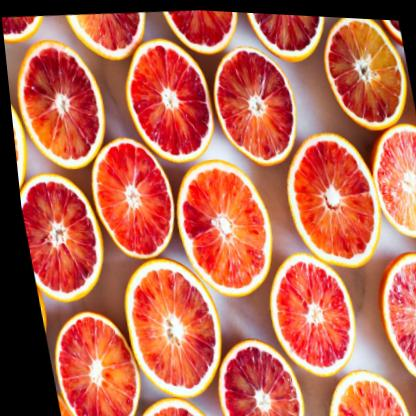---: (107, 242, 229, 404), (268, 117, 388, 278), (163, 146, 279, 304), (248, 237, 361, 384), (111, 29, 222, 168), (75, 125, 175, 263), (204, 37, 305, 172)
